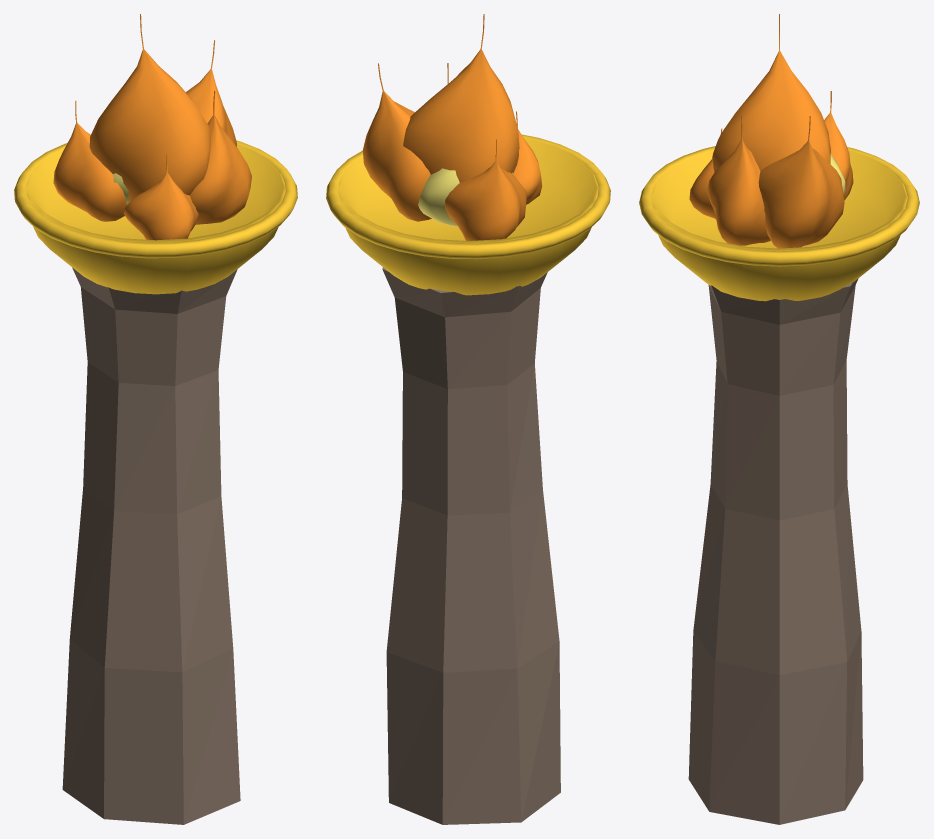
The model's file is LavaTorch.obj.
The picture shows the model from 3 angles, left to right: view 1: azimuth 30°, elevation 25°; view 2: azimuth 150°, elevation 25°; view 3: azimuth 270°, elevation 25°; orthographic projection.
Visible parts, largest first — view 1: Rock, Flame, Gold; view 2: Rock, Gold, Flame, Core; view 3: Rock, Gold, Flame.
Boxes of the visible parts, x1=… form: Rock: x1=62, y1=267, x2=240, y2=824; Flame: x1=53, y1=14, x2=251, y2=240; Gold: x1=14, y1=140, x2=297, y2=294; Rock: x1=382, y1=267, x2=560, y2=824; Gold: x1=326, y1=134, x2=610, y2=295; Flame: x1=362, y1=14, x2=542, y2=240; Core: x1=418, y1=168, x2=513, y2=226; Rock: x1=688, y1=278, x2=863, y2=824; Gold: x1=639, y1=146, x2=919, y2=301; Flame: x1=689, y1=14, x2=853, y2=248.
Bounding box in the file's own units: 10.26 × 30.9 × 10.26.
